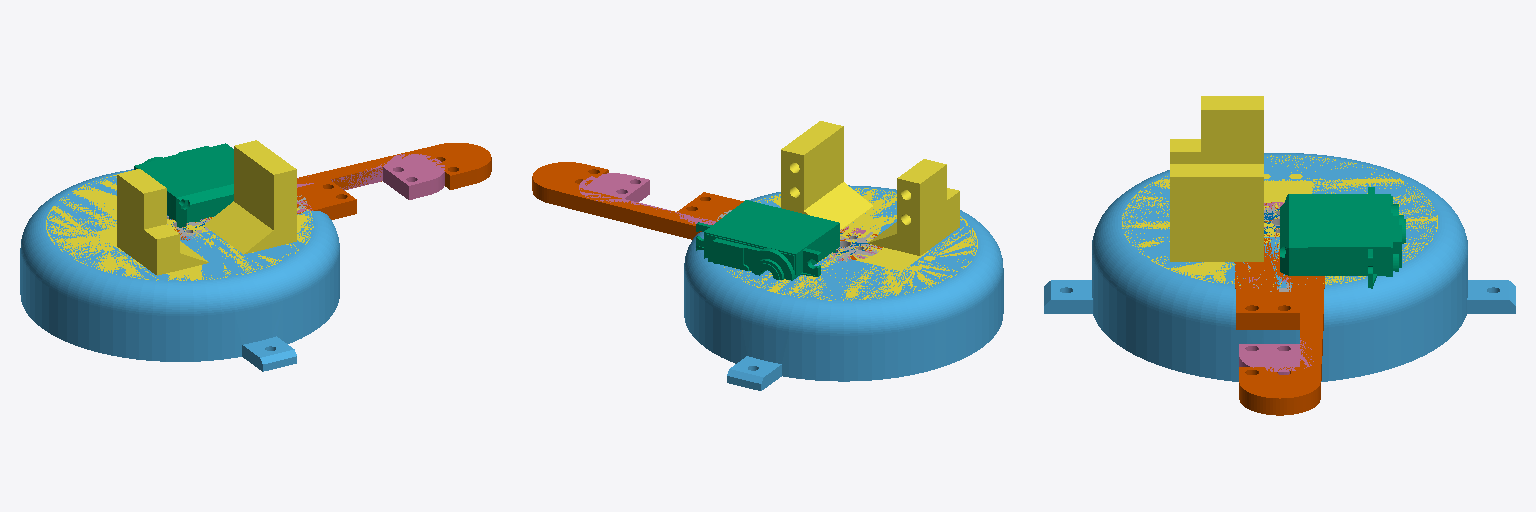
The robot description file, URDF, robot "robot_arm_description":
<?xml version="1.0"?>
<robot name="robot_arm_description">

  <link name="world"/>

  <joint name="world_to_base" type="fixed">
    <parent link="world"/>
    <child link="base"/>
    <origin xyz="0 0 0" rpy="0 0 0"/>
  </joint>

  <link name="base">
    <visual>
      <origin xyz="0 0 0" rpy="0 0 0"/>
      <geometry>
        <mesh filename="package://robot_arm_description/meshes/base.stl"/>
      </geometry>
    </visual>
    <collision>
      <origin xyz="0 0 0" rpy="0 0 0"/>
      <geometry>
        <mesh filename="package://robot_arm_description/meshes/base.stl"/>
      </geometry>
    </collision>
  </link>

  <link name="servo1">
    <visual>
      <origin xyz="0 0 0" rpy="0 0 0"/>
      <geometry>
        <mesh filename="package://robot_arm_description/meshes/servo1.stl"/>
      </geometry>
    </visual>
    <collision>
      <origin xyz="0 0 0" rpy="0 0 0"/>
      <geometry>
        <mesh filename="package://robot_arm_description/meshes/servo1.stl"/>
      </geometry>
    </collision>
  </link>

  <joint name="base_to_servo1" type="fixed">
    <parent link="base"/>
    <child link="servo1"/>
    <origin xyz="0 0 0" rpy="0 0 0"/>
  </joint>

  <link name="rotate_base">
    <visual>
      <origin xyz="0 0 0" rpy="0 0 0"/>
      <geometry>
        <mesh filename="package://robot_arm_description/meshes/rotate_base.stl"/>
      </geometry>
    </visual>
    <collision>
      <origin xyz="0 0 0" rpy="0 0 0"/>
      <geometry>
        <mesh filename="package://robot_arm_description/meshes/rotate_base.stl"/>
      </geometry>
    </collision>
  </link>

  <joint name="servo1_to_rotate_base" type="revolute">
    <parent link="servo1"/>
    <child link="rotate_base"/>
    <origin xyz="0 0 0" rpy="0 0 0"/>
    <axis xyz="0 0 1"/>
    <limit lower="-3.14" upper="3.14" effort="10" velocity="1"/>
  </joint>

  <link name="joint">
    <visual>
      <origin xyz="0 0 0" rpy="0 0 0"/>
      <geometry>
        <mesh filename="package://robot_arm_description/meshes/joint.stl"/>
      </geometry>
    </visual>
    <collision>
      <origin xyz="0 0 0" rpy="0 0 0"/>
      <geometry>
        <mesh filename="package://robot_arm_description/meshes/joint.stl"/>
      </geometry>
    </collision>
  </link>

  <joint name="rotate_base_to_joint" type="revolute">
    <parent link="rotate_base"/>
    <child link="joint"/>
    <origin xyz="0 0 0" rpy="0 0 0"/>
    <axis xyz="0 1 0"/>
    <limit lower="-1.57" upper="1.57" effort="10" velocity="1"/>
  </joint>

  <link name="link1">
    <visual>
      <origin xyz="0 0 0" rpy="0 0 0"/>
      <geometry>
        <mesh filename="package://robot_arm_description/meshes/link1.stl"/>
      </geometry>
    </visual>
    <collision>
      <origin xyz="0 0 0" rpy="0 0 0"/>
      <geometry>
        <mesh filename="package://robot_arm_description/meshes/link1.stl"/>
      </geometry>
    </collision>
  </link>

  <joint name="joint_to_link1" type="revolute">
    <parent link="joint"/>
    <child link="link1"/>
    <origin xyz="0 0 0" rpy="0 0 0"/>
    <axis xyz="0 1 0"/>
    <limit lower="-1.57" upper="1.57" effort="10" velocity="1"/>
  </joint>

  <link name="link2">
    <visual>
      <origin xyz="0 0 0" rpy="0 0 0"/>
      <geometry>
        <mesh filename="package://robot_arm_description/meshes/link2.stl"/>
      </geometry>
    </visual>
    <collision>
      <origin xyz="0 0 0" rpy="0 0 0"/>
      <geometry>
        <mesh filename="package://robot_arm_description/meshes/link2.stl"/>
      </geometry>
    </collision>
  </link>

  <joint name="link1_to_link2" type="revolute">
    <parent link="link1"/>
    <child link="link2"/>
    <origin xyz="0 0 0" rpy="0 0 0"/>
    <axis xyz="0 1 0"/>
    <limit lower="-1.57" upper="1.57" effort="10" velocity="1"/>
  </joint>

  <link name="link2_2">
    <visual>
      <origin xyz="0 0 0" rpy="0 0 0"/>
      <geometry>
        <mesh filename="package://robot_arm_description/meshes/link2__2.stl"/>
      </geometry>
    </visual>
    <collision>
      <origin xyz="0 0 0" rpy="0 0 0"/>
      <geometry>
        <mesh filename="package://robot_arm_description/meshes/link2__2.stl"/>
      </geometry>
    </collision>
  </link>

  <joint name="link2_to_link2_2" type="fixed">
    <parent link="link2"/>
    <child link="link2_2"/>
    <origin xyz="0 0 0" rpy="0 0 0"/>
  </joint>

</robot>

--- Facts derived from the render (not from the file) ---
The picture shows the robot from 3 angles, left to right: view 1: azimuth 30°, elevation 25°; view 2: azimuth 150°, elevation 25°; view 3: azimuth 270°, elevation 25°; orthographic projection.
Robot: robot_arm_description — 8 links, 7 joints (4 revolute, 3 fixed); root link world; default pose: all joints at 0.
Visible links, largest first — view 1: base, rotate_base, servo1, link1, link2; view 2: base, rotate_base, servo1, link1, link2, link2_2; view 3: base, rotate_base, servo1, link1, link2.
Link boxes in pixels (<box>): base: <box>20,169,339,371</box>; rotate_base: <box>46,140,313,280</box>; servo1: <box>134,143,233,227</box>; link1: <box>169,143,491,240</box>; link2: <box>183,154,444,239</box>; base: <box>684,185,1003,390</box>; rotate_base: <box>724,121,977,300</box>; servo1: <box>696,200,839,280</box>; link1: <box>532,162,882,260</box>; link2: <box>579,173,875,260</box>; link2_2: <box>717,210,881,260</box>; base: <box>1044,153,1515,381</box>; rotate_base: <box>1122,96,1437,286</box>; servo1: <box>1280,187,1405,288</box>; link1: <box>1234,202,1324,415</box>; link2: <box>1239,202,1313,374</box>.
Bounding box of the posed robot: 0.193 × 0.15 × 0.059 m (x, y, z).
7 mesh visuals loaded from 7 distinct referenced files (7 binary STL).
